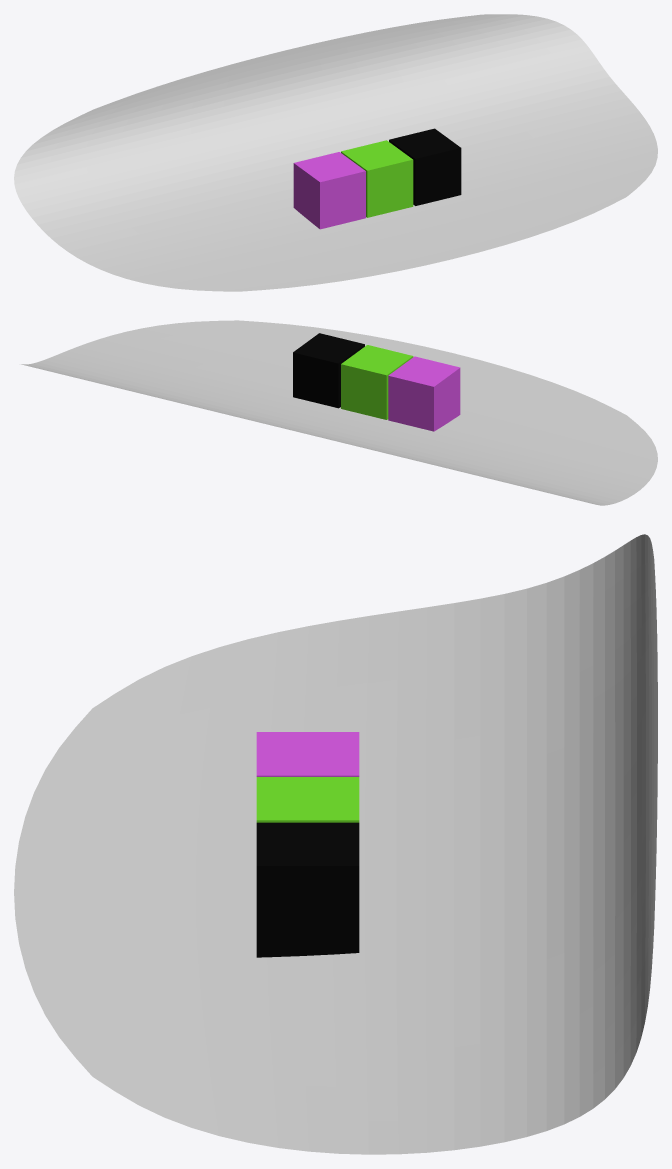
3 views of the same model, one above another, from view 1: azimuth 30°, elevation 25°; view 2: azimuth 150°, elevation 25°; view 3: azimuth 270°, elevation 25° (orthographic). The views are drawn at different scales.
Parts seen in each view (by area): view 1: Plane, Cube.001, Cube.002, Cube; view 2: Plane, Cube.001, Cube.002, Cube; view 3: Plane, Cube.002, Cube, Cube.001.
Part boxes in pixels (<box>): Plane: <box>14,14,657,291</box>; Cube.001: <box>293,152,365,229</box>; Cube.002: <box>389,128,461,205</box>; Cube: <box>341,140,413,217</box>; Plane: <box>21,320,657,505</box>; Cube.001: <box>388,356,460,431</box>; Cube.002: <box>293,333,364,408</box>; Cube: <box>341,345,413,419</box>; Plane: <box>14,534,657,1154</box>; Cube.002: <box>256,822,359,957</box>; Cube: <box>256,777,359,822</box>; Cube.001: <box>256,732,359,776</box>.
Bounding box in the file's own units: 25.25 × 3.67 × 12.53.
